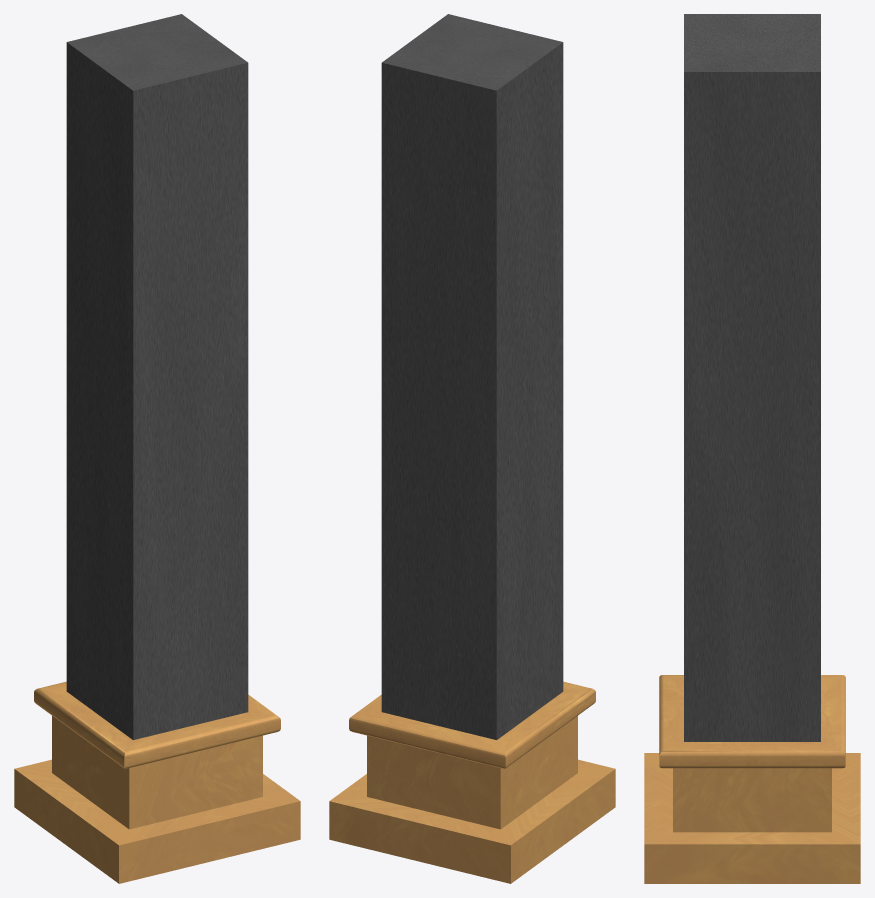
The model's file is Hdb pillar.fbx.
The picture shows the model from 3 angles, left to right: view 1: azimuth 30°, elevation 25°; view 2: azimuth 150°, elevation 25°; view 3: azimuth 270°, elevation 25°; orthographic projection. The views are drawn at different scales.
Visible parts, largest first — view 1: pCube122; view 2: pCube122; view 3: pCube122.
Boxes of the visible parts, <box> form: pCube122: <box>14,14,300,883</box>; pCube122: <box>329,14,615,883</box>; pCube122: <box>644,14,860,883</box>.
Size of the model in its own units: 91.72 by 372 by 91.72.
Materials: 1 (1 with a texture image).
